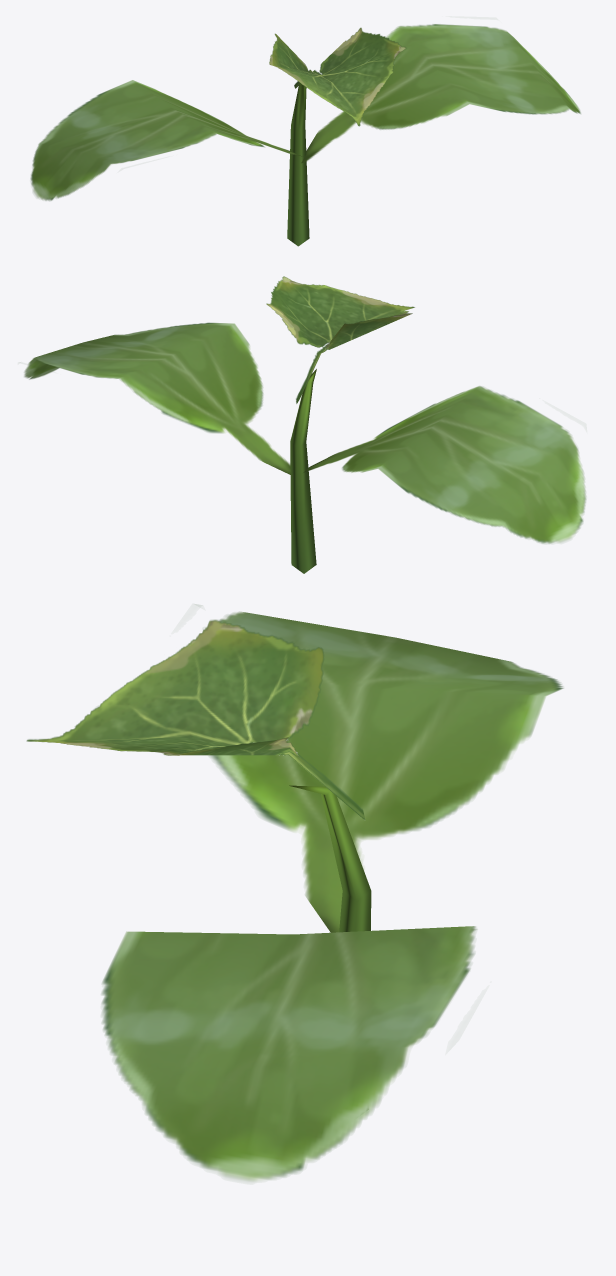
The model's file is plant_cucumber_S1.gltf.
The picture shows the model from 3 angles, top to bottom: view 1: azimuth 30°, elevation 25°; view 2: azimuth 150°, elevation 25°; view 3: azimuth 270°, elevation 25°; orthographic projection. The views are drawn at different scales.
Visible parts, largest first — view 1: plant_cucumber_S1; view 2: plant_cucumber_S1; view 3: plant_cucumber_S1.
Part boxes in pixels (x1,y1,x2,y2): plant_cucumber_S1: [30, 24, 580, 246]; plant_cucumber_S1: [24, 276, 586, 573]; plant_cucumber_S1: [26, 604, 563, 1181].
Bounding box in the file's own units: 0.3376 × 0.1312 × 0.1515.
1 material, 1 textured.
